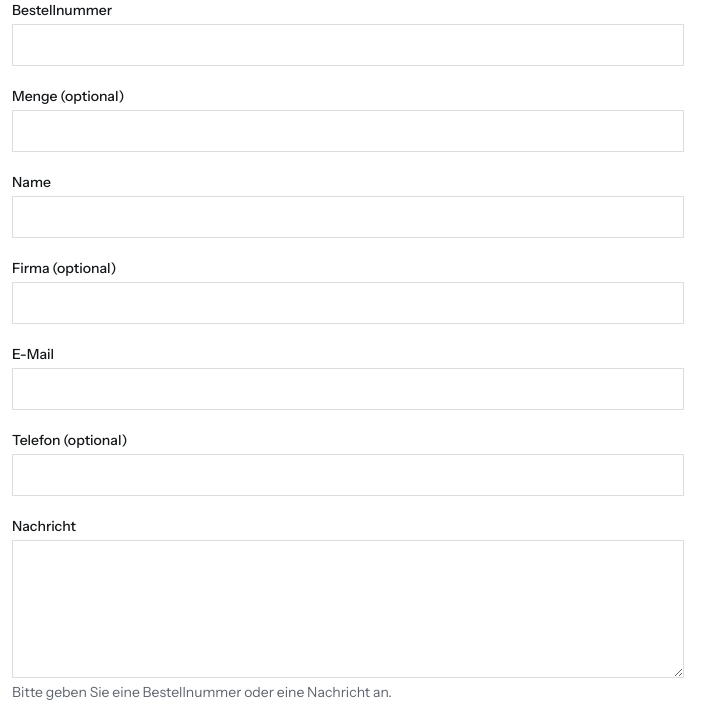
InquiryForm (FR-8, FR-11) › focuses the first invalid field after a failed client validation
The width and height of the screenshot is (705, 720).
Type "kaputt" into the field labelled "E-Mail" at (348, 389), box [12,368,684,410]
(page scrolled)
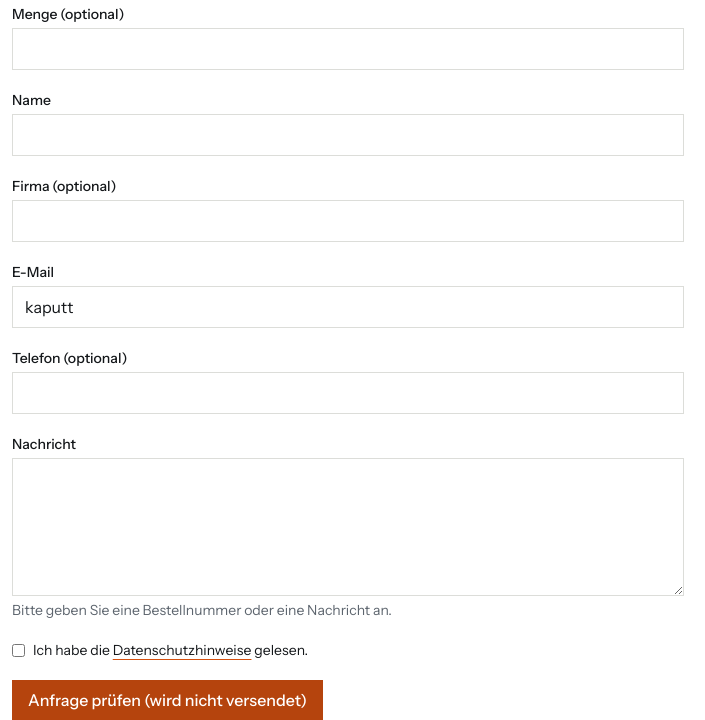
Click the button "Anfrage prüfen (wird nicht versendet)" at (168, 700), box [12,680,323,719]
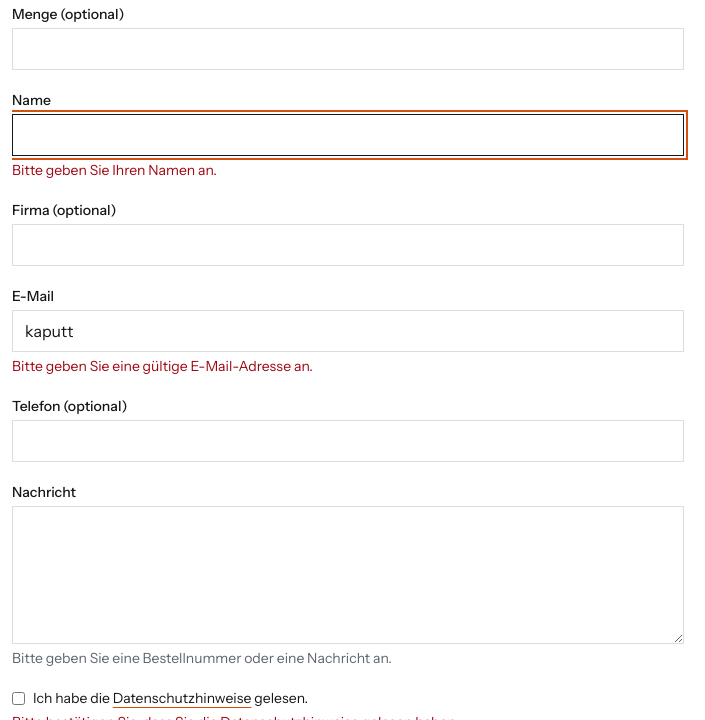
Expected: the field labelled "Name" is shown, [12,114,684,156]
Result: the text "Bitte geben Sie eine gültige E-Mail-Adresse an." is shown at [12,357,313,375]
